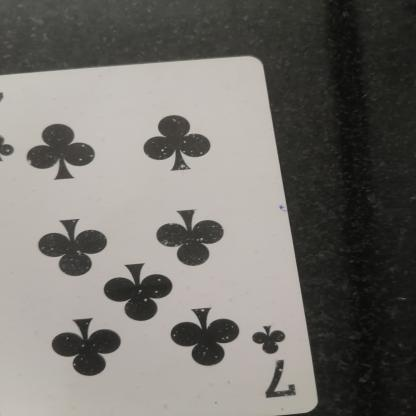7C: (248, 316, 316, 410)
